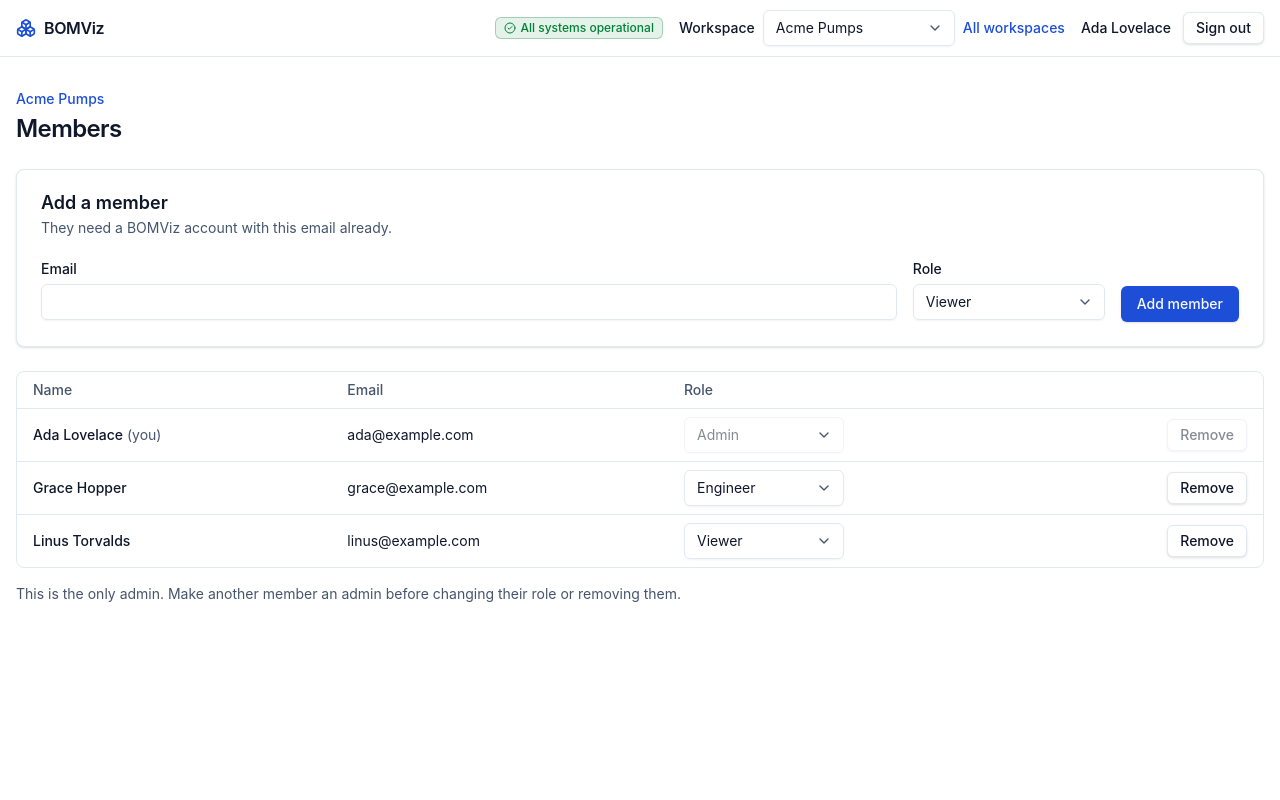
Scenario: removing a member › "Remove member" sends DELETE and the row disappears
The image size is (1280, 800).
What coordinates should you click on to do the following:
click the button named "Remove Grace Hopper"
I would click on:
 (1207, 488)
Its box is [1167,472,1247,504].
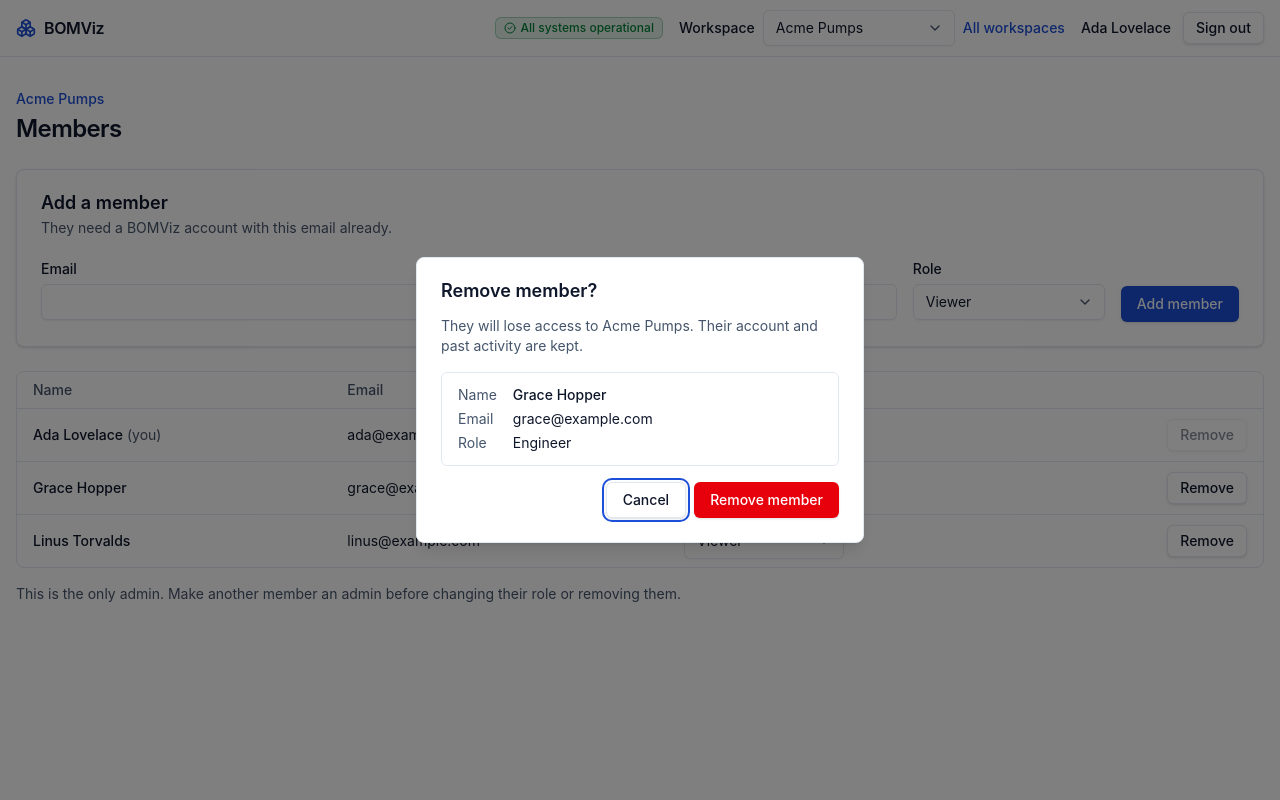
What coordinates should you click on to do the following:
click the button "Remove member"
I would click on:
 (767, 500)
Its box is [694,482,839,518].
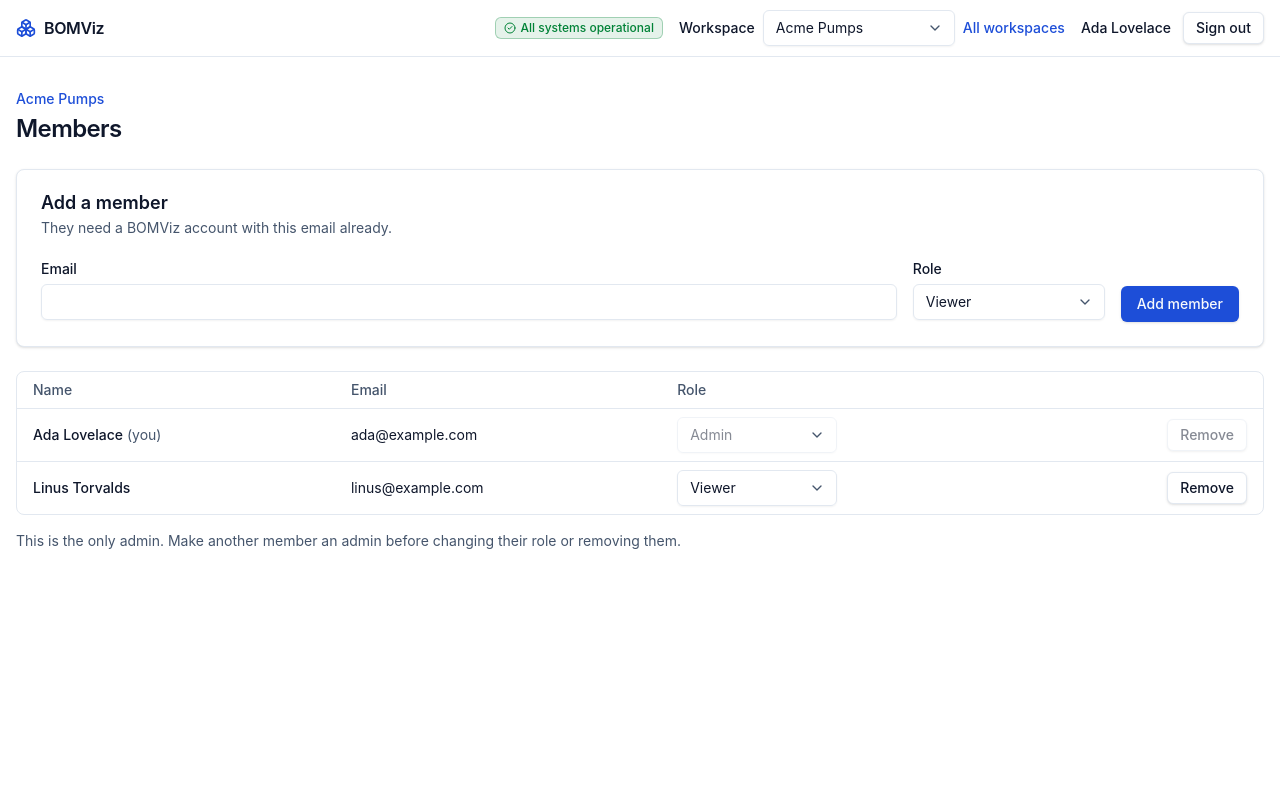
Expected: the column heading "Linus Torvalds" is shown, [17,462,335,514]
Result: the dialog is gone
